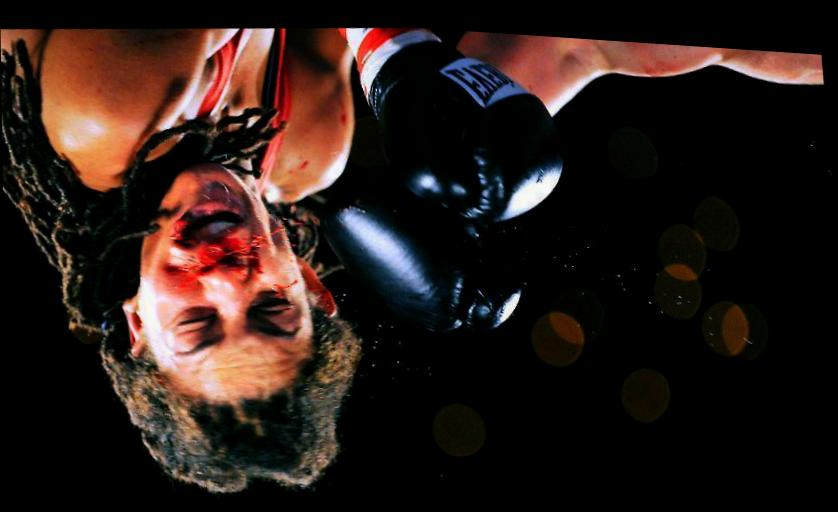Fire: (167, 214, 297, 287)
